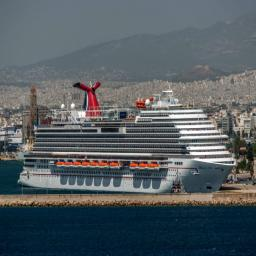cruises: (19, 80, 238, 198)
